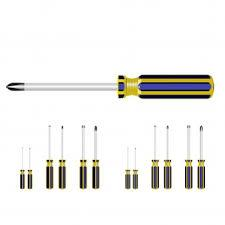screwdriver: (5, 72, 213, 98), (182, 124, 193, 189), (195, 124, 205, 189), (162, 124, 171, 189), (90, 123, 99, 188), (78, 123, 87, 188), (150, 123, 158, 189), (44, 123, 52, 188), (58, 125, 66, 189), (131, 145, 138, 189), (26, 146, 32, 189)
